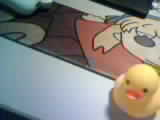duck: (111, 63, 156, 113)
